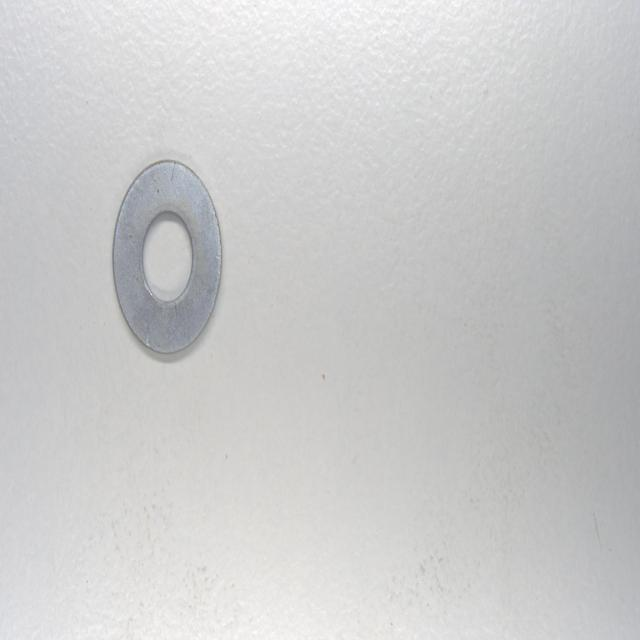washer: (110, 159, 226, 366)
